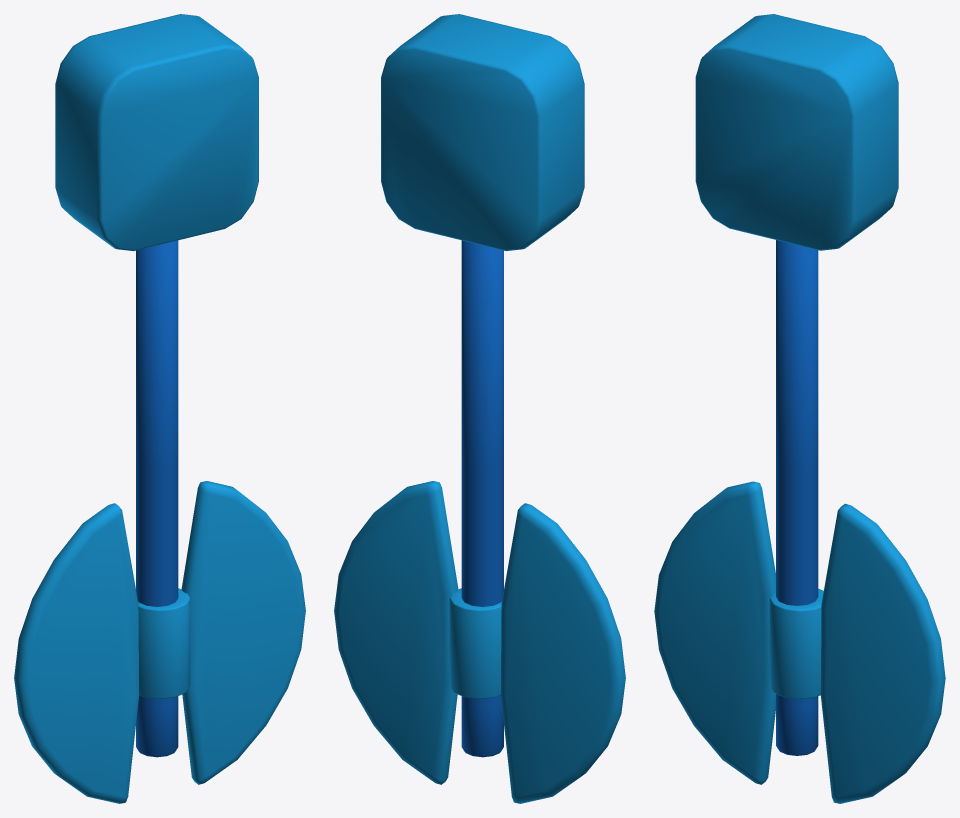
File: wing_blue.fbx
The picture shows the model from 3 angles, left to right: view 1: azimuth 30°, elevation 25°; view 2: azimuth 150°, elevation 25°; view 3: azimuth 330°, elevation 25°; orthographic projection.
Visible parts, largest first — view 1: wing_blue_serve, wing_blue_main; view 2: wing_blue_serve, wing_blue_main; view 3: wing_blue_serve, wing_blue_main.
Part boxes in pixels (<box>): wing_blue_serve: <box>14,240,305,803</box>; wing_blue_main: <box>55,14,258,251</box>; wing_blue_serve: <box>334,240,625,803</box>; wing_blue_main: <box>381,14,584,251</box>; wing_blue_serve: <box>654,240,945,803</box>; wing_blue_main: <box>695,14,898,250</box>.
Bounding box in the file's own units: 0.3099 × 0.7741 × 0.0861.
